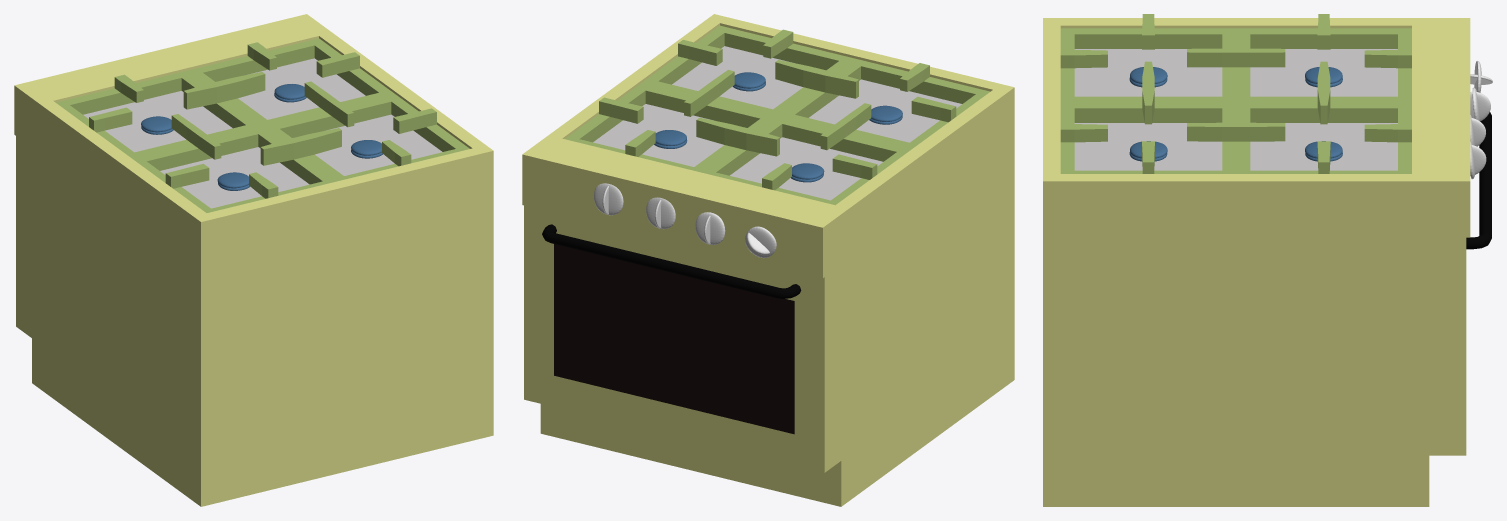
The model's file is ofen.fbx.
3 renders of one model, left to right at view 1: azimuth 30°, elevation 25°; view 2: azimuth 150°, elevation 25°; view 3: azimuth 270°, elevation 25°, orthographic. The views are drawn at different scales.
Parts seen in each view (by area): view 1: Plane.009, Plane.011, Plane.012, GAS.001; view 2: Plane.009, Plane.017, Plane.011, Plane.012, handle.001, GAS.001, Plane.014, Plane.016, Plane.013, Plane.015; view 3: Plane.009, Plane.011, Plane.012, GAS.001, handle.001, Plane.014.
Part boxes in pixels (x1=…): Plane.009: x1=14, y1=14, x2=493, y2=506; Plane.011: x1=56, y1=38, x2=469, y2=212; Plane.012: x1=83, y1=58, x2=442, y2=208; GAS.001: x1=141, y1=84, x2=382, y2=190; Plane.009: x1=522, y1=14, x2=1014, y2=506; Plane.017: x1=554, y1=244, x2=794, y2=434; Plane.011: x1=565, y1=25, x2=989, y2=205; Plane.012: x1=593, y1=46, x2=961, y2=200; handle.001: x1=542, y1=224, x2=801, y2=298; GAS.001: x1=654, y1=72, x2=902, y2=182; Plane.014: x1=695, y1=212, x2=725, y2=244; Plane.016: x1=593, y1=183, x2=623, y2=215; Plane.013: x1=745, y1=226, x2=776, y2=258; Plane.015: x1=646, y1=197, x2=675, y2=229; Plane.009: x1=1043, y1=18, x2=1470, y2=506; Plane.011: x1=1060, y1=14, x2=1411, y2=173; Plane.012: x1=1074, y1=49, x2=1397, y2=170; GAS.001: x1=1129, y1=67, x2=1342, y2=161; handle.001: x1=1466, y1=112, x2=1491, y2=249; Plane.014: x1=1470, y1=87, x2=1490, y2=121.
Size of the model in its own units: 200 by 195 by 233.
